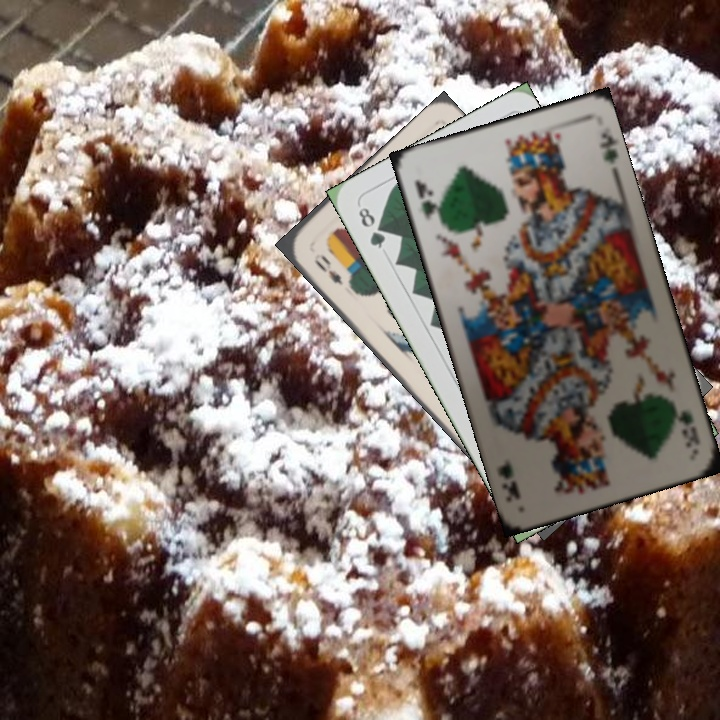EO: (309, 249, 346, 288)
G8: (354, 203, 388, 251)
GK: (410, 175, 446, 225), (672, 407, 703, 451)
